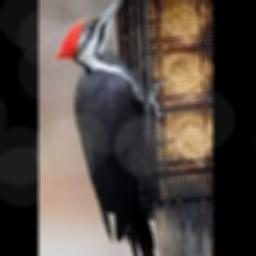Woodpecker: (52, 0, 165, 256)
